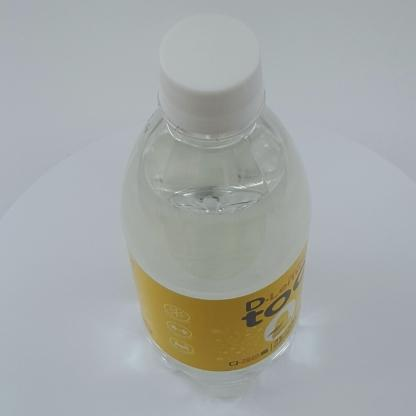------500ML: (122, 13, 311, 397)
